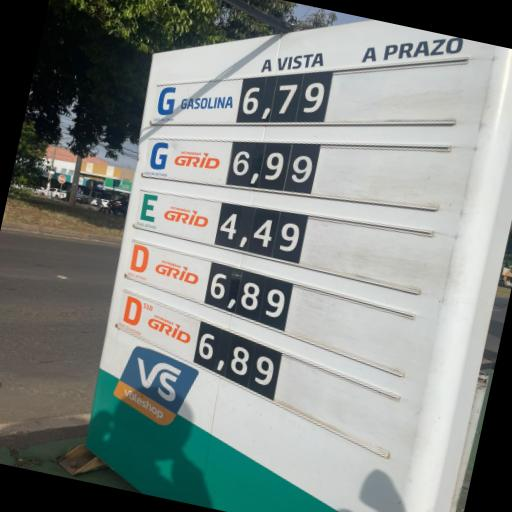ETANOL: (133, 188, 220, 243)
GASOLINA AD: (145, 137, 234, 186)
GASOLINA C: (150, 78, 239, 129)
S10: (118, 290, 197, 354)
S500: (122, 240, 207, 301)
placa: (111, 65, 333, 408)
preco: (195, 324, 280, 398), (216, 200, 306, 261), (209, 264, 289, 327), (228, 143, 317, 193), (239, 73, 326, 123)
